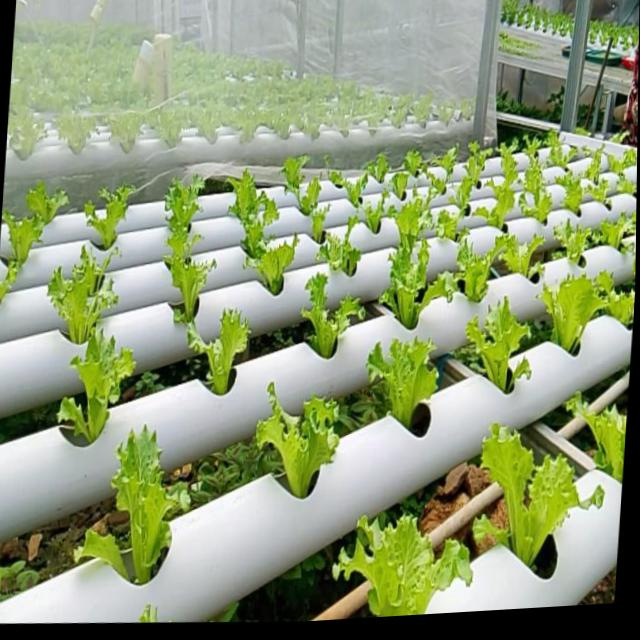Baby: (473, 419, 601, 559), (333, 510, 471, 617), (115, 425, 191, 582), (256, 383, 340, 497), (62, 331, 139, 445), (166, 179, 217, 332), (367, 338, 439, 436), (52, 249, 121, 347), (466, 297, 531, 392), (537, 269, 606, 351), (303, 275, 365, 359), (190, 311, 251, 396), (446, 233, 517, 303), (229, 173, 280, 260), (318, 218, 376, 278), (4, 215, 50, 287), (246, 238, 301, 297), (88, 189, 137, 253), (519, 140, 553, 224), (389, 192, 434, 255), (548, 130, 579, 168), (559, 170, 585, 213), (585, 146, 605, 184), (437, 210, 460, 241), (428, 168, 450, 199)
